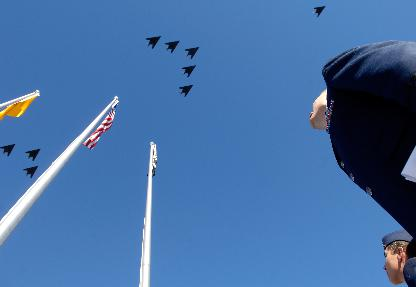E7: (184, 47, 200, 59), (164, 41, 180, 53), (146, 35, 160, 48), (22, 165, 37, 177), (25, 148, 40, 160), (0, 144, 15, 156), (178, 84, 192, 96), (181, 65, 195, 77), (312, 5, 326, 16)
